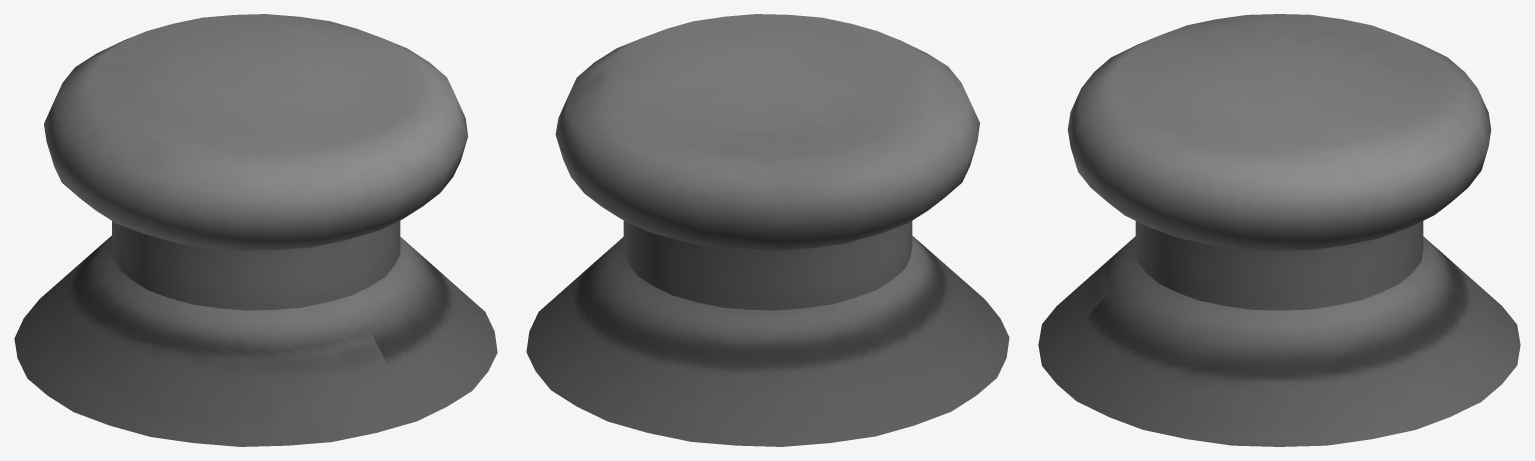
The picture shows the model from 3 angles, left to right: view 1: azimuth 30°, elevation 25°; view 2: azimuth 150°, elevation 25°; view 3: azimuth 270°, elevation 25°; orthographic projection.
Size of the model in its own units: 0.0156 by 0.00931 by 0.0156.
1 material, 1 textured.
